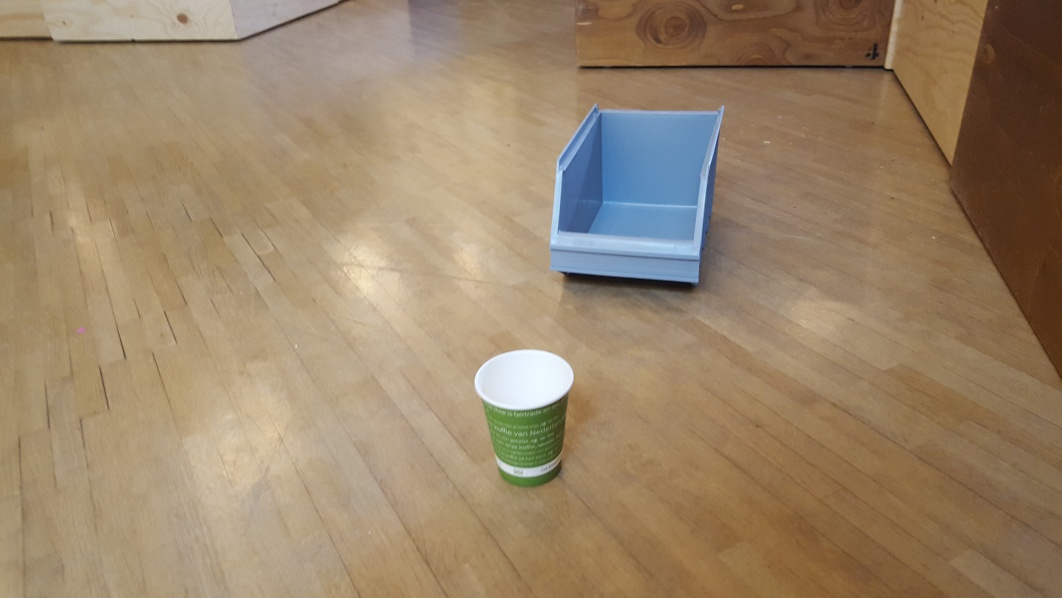cup: (472, 348, 574, 487)
tray: (547, 104, 728, 289)
